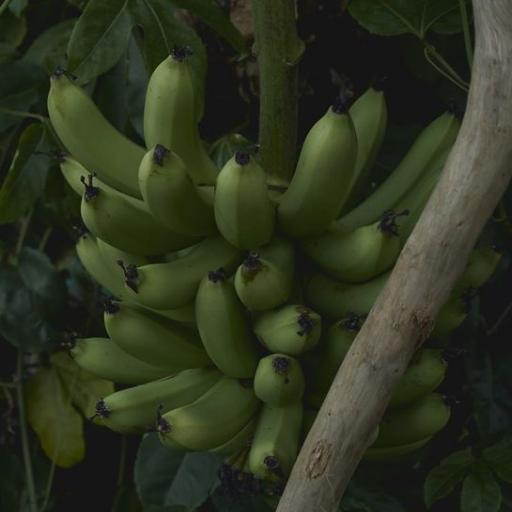banana-unripe: (29, 38, 477, 491)
